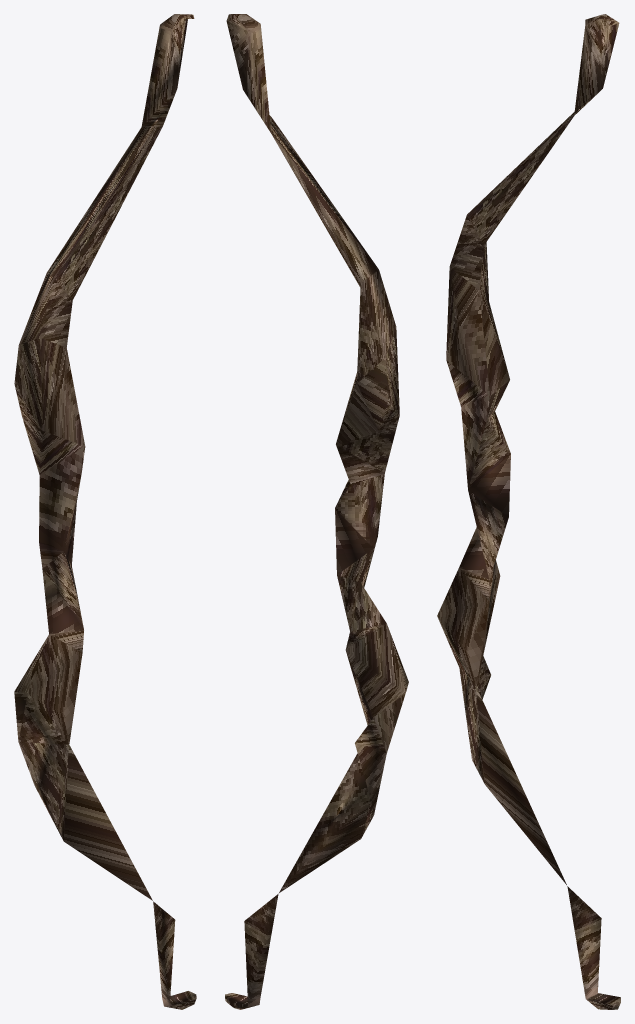
File: ae_bow_lod1.glb
3 renders of one model, left to right at view 1: azimuth 30°, elevation 25°; view 2: azimuth 150°, elevation 25°; view 3: azimuth 330°, elevation 25°, orthographic.
Bounding box in the file's own units: 0.363 × 1.9 × 0.0919.
Materials: 1 (1 with a texture image).
